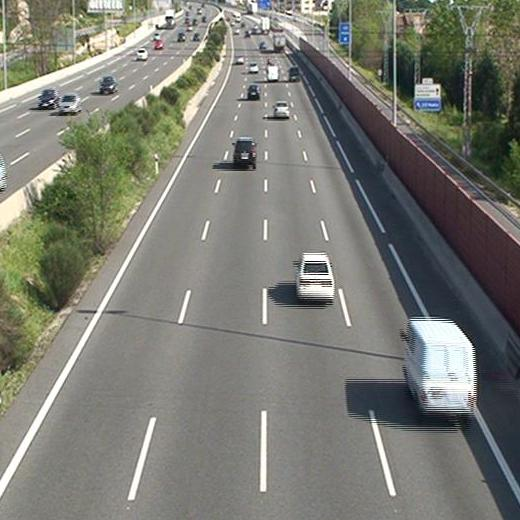car: (295, 253, 334, 300), (233, 137, 256, 166), (273, 100, 290, 118), (287, 66, 300, 81), (247, 85, 259, 100), (247, 62, 258, 73), (234, 55, 244, 63)
van: (403, 321, 476, 417), (267, 66, 279, 80)
